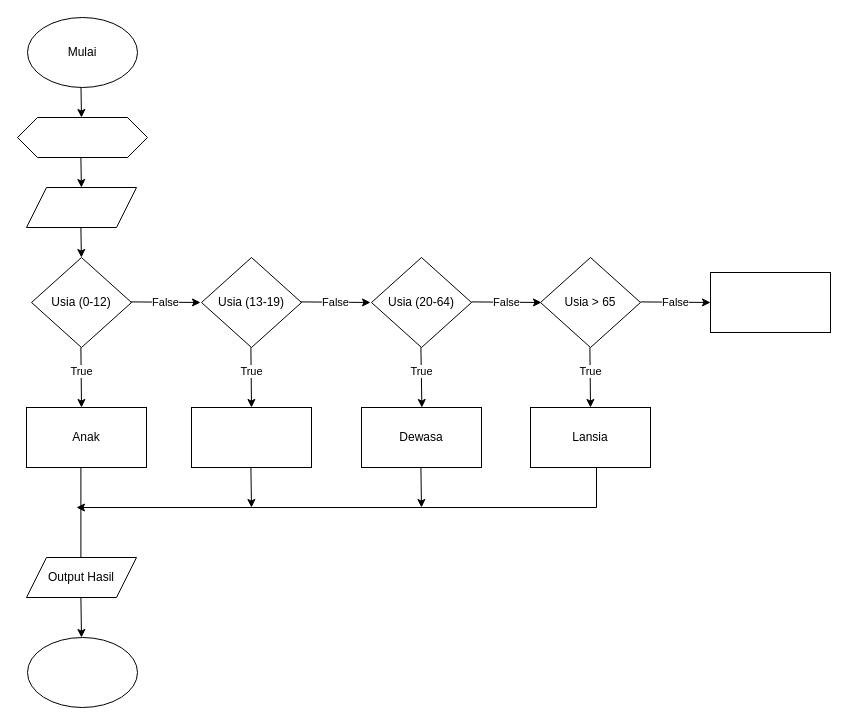
Image size: 848x725. Some labels were removed from this diagram. The box of each missing label's shape, as (x1, y1, x2, y2) in pixels:
Input Usia: (26, 186, 136, 228)
Remaja: (190, 406, 312, 468)
Selesai: (26, 636, 138, 708)
tidak valid: (710, 272, 830, 332)
Usia : Int: (16, 116, 148, 158)
